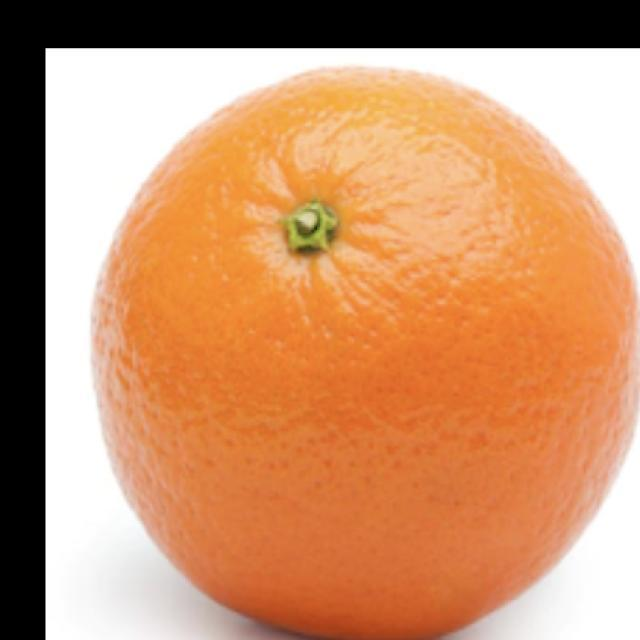Orange: (88, 64, 639, 639)
